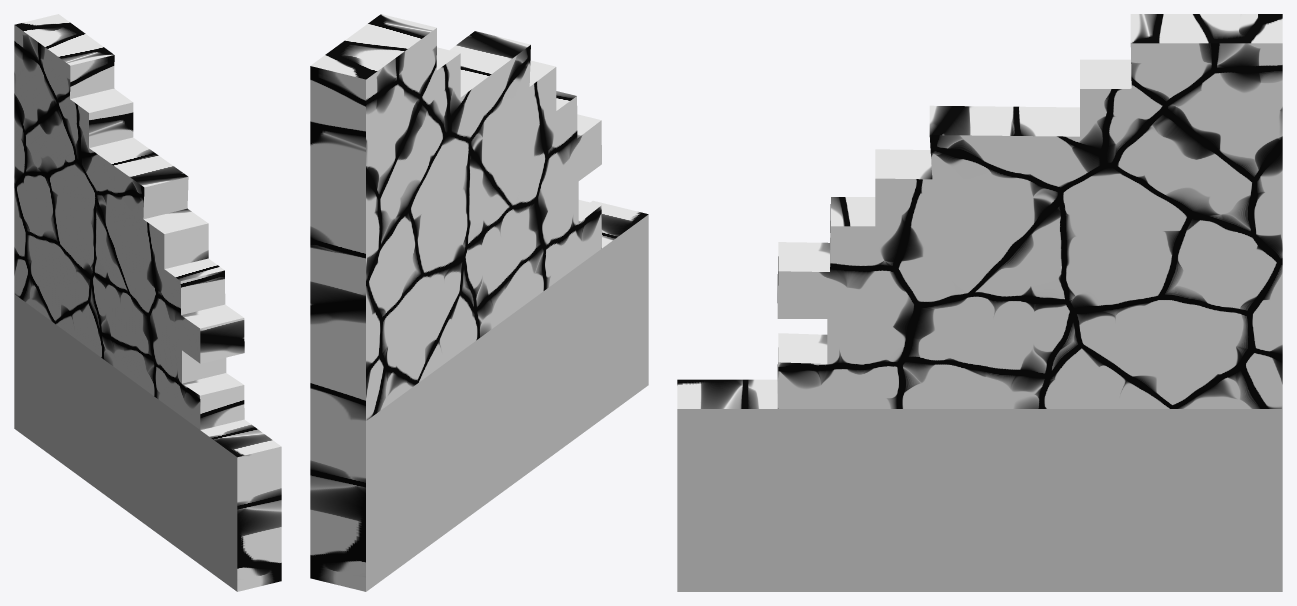
Rendered from SM_Wall_Broken.fbx.
3 views of the same model, side by side, from view 1: azimuth 30°, elevation 25°; view 2: azimuth 150°, elevation 25°; view 3: azimuth 270°, elevation 25° (orthographic). The views are drawn at different scales.
Visible parts, largest first — view 1: EnvironmentAssets:polySurface14; view 2: EnvironmentAssets:polySurface14; view 3: EnvironmentAssets:polySurface14.
Part boxes in pixels (x1,y1,x2,y2): EnvironmentAssets:polySurface14: (14,14,281,591); EnvironmentAssets:polySurface14: (310,14,648,591); EnvironmentAssets:polySurface14: (677,14,1282,591).
Bounding box in the file's own units: 0.343 × 3 × 3.
